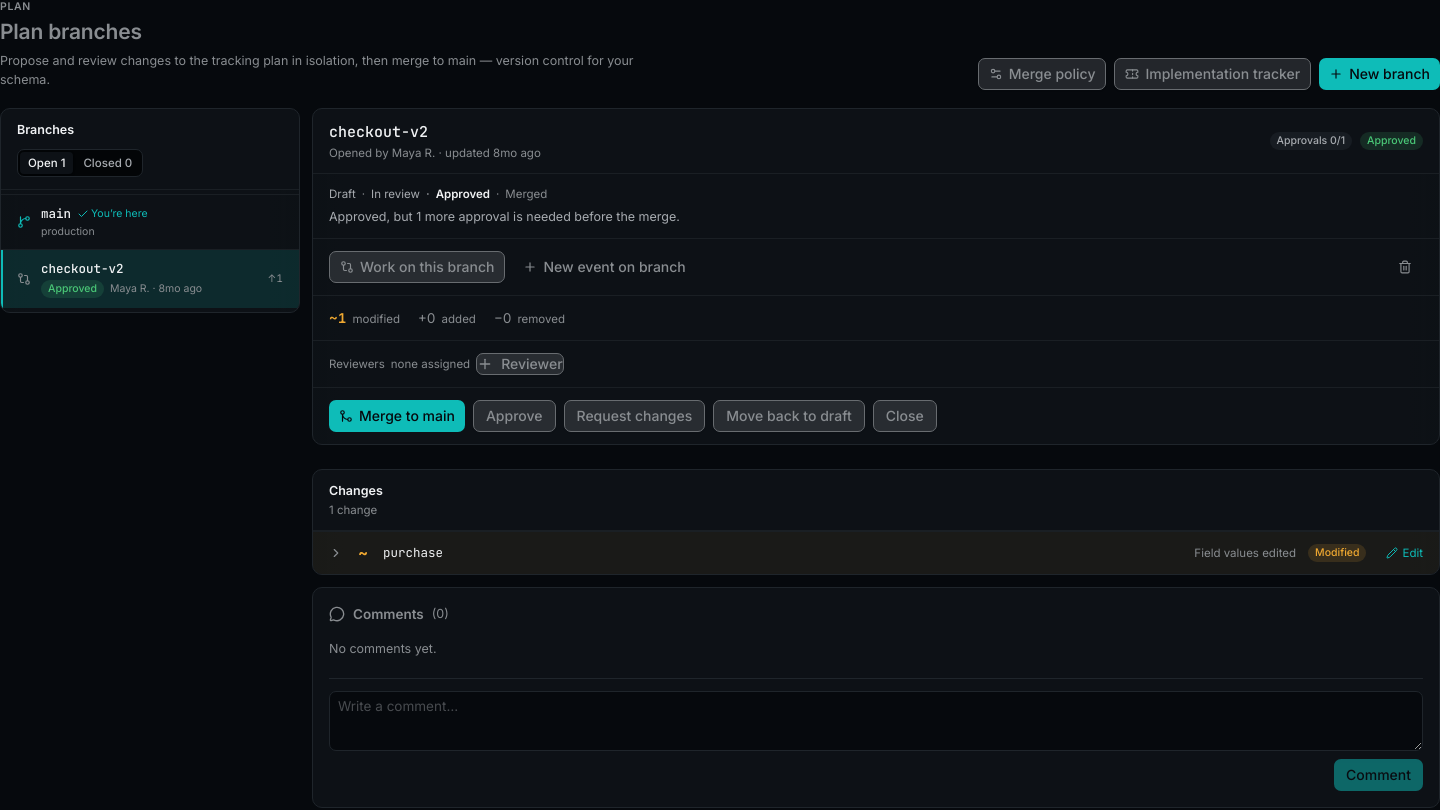
Test case: BranchesTab › breaks a changed collection down per member instead of dumping JSON
The image size is (1440, 810).
What coordinates should you click on to do the following:
click the button "~ purchase Field values edited Modified"
I would click on:
 (413, 552)
Its box is [313,532,1382,574].
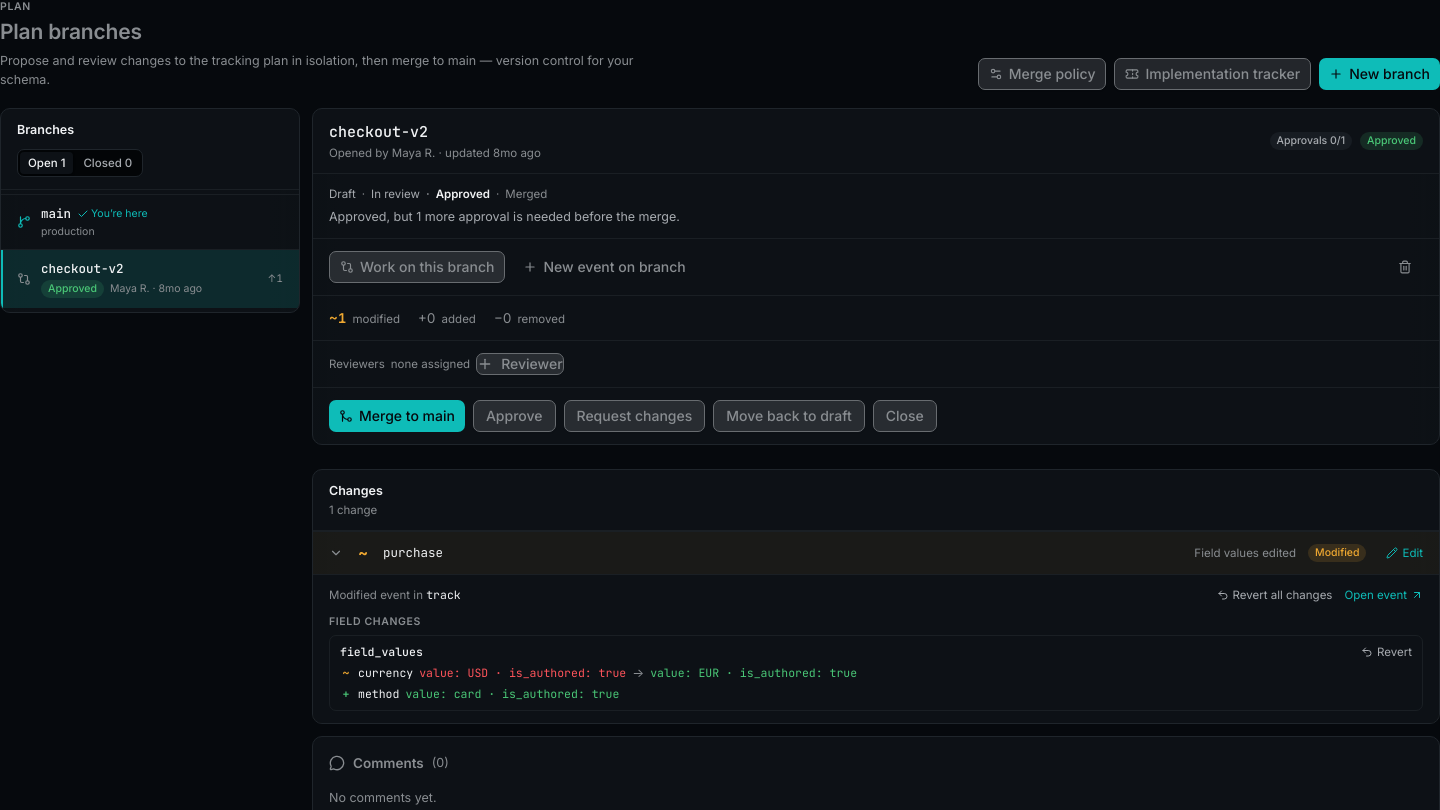
Now the text "currency" is shown, box [358,664,413,680]
Now the text "method" is shown, box [358,686,399,702]
Now the text "value: USD · is_authored: true" is shown, box [419,664,626,680]
